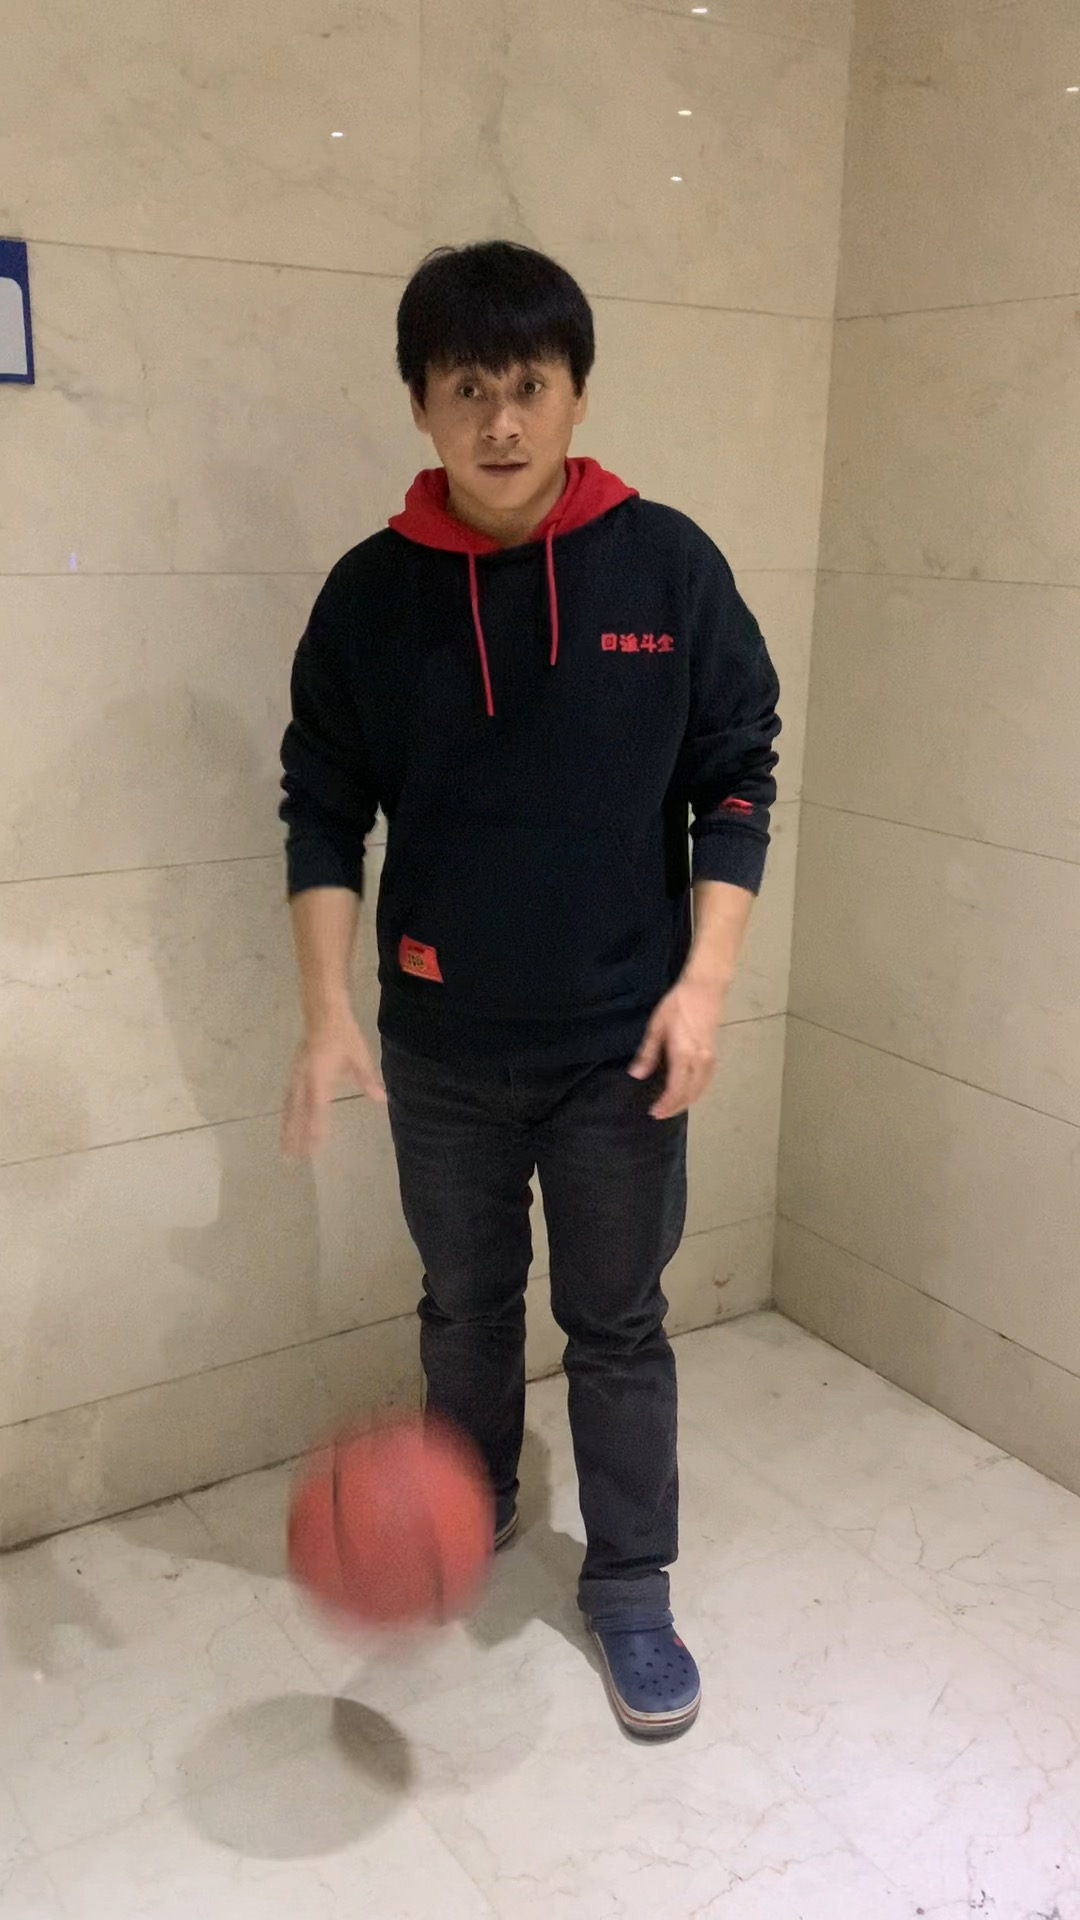ball: (281, 1427, 489, 1635)
